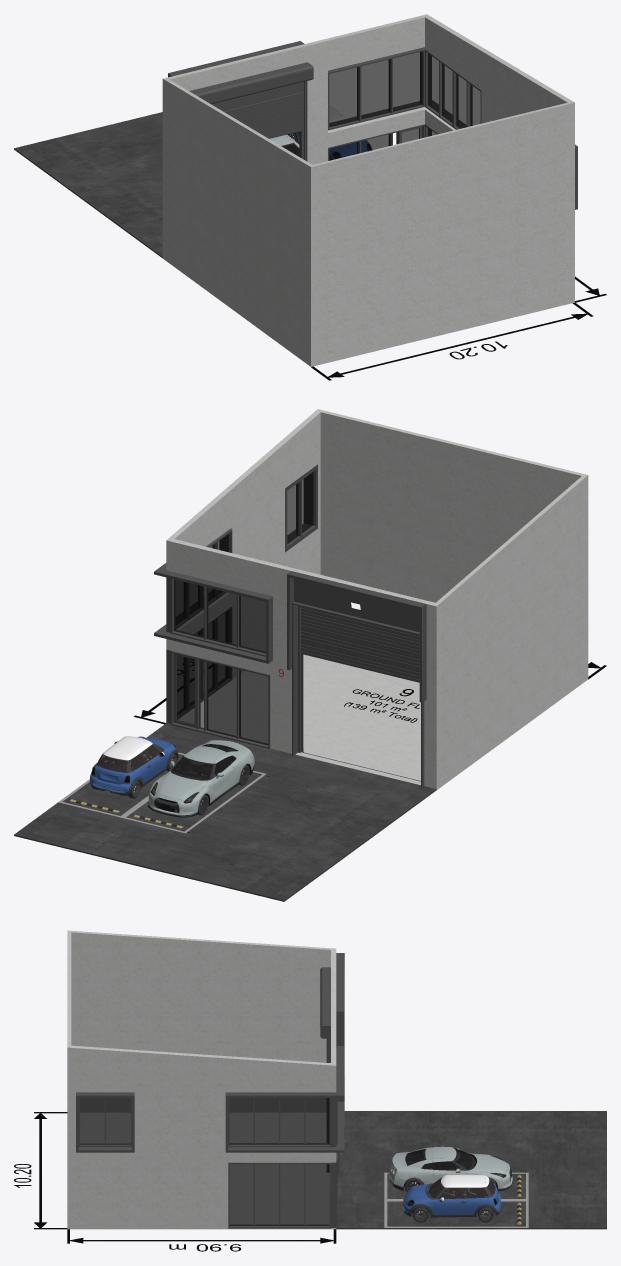
Rendered from Without_Mezzanine.glb.
The picture shows the model from 3 angles, top to bottom: view 1: azimuth 30°, elevation 25°; view 2: azimuth 150°, elevation 25°; view 3: azimuth 270°, elevation 25°; orthographic projection. The views are drawn at different scales.
Parts seen in each view (by area): view 1: Object1746169897.002, Object1746169898.001, Shape217.001, Box2131647078.002, Box2131646516.001, Segment 005.001, Object1746169889.002, Rectangle2133403703.001, Rectangle2133403702.001, DIM_Line_005.003, AM132_041_25.002, Component#121 [25528]107.001; view 2: Box2131647078.002, Object1746169897.002, Object1746169898.001, Shape217.001, Box2131646516.001, Shape218.001, Segment 005.001, AM132_033_39.002, AM132_041_25.002, Component#120 [25525]107.001, Component#121 [25528]107.001, Rectangle2133403701.001 (+3 smaller); view 3: Object1746169898.001, Shape217.001, Box2131647078.002, Box2131646516.001, Shape218.001, AM132_041_25.002, AM132_033_39.002, Rectangle2133403701.001, Rectangle2133403703.001, Rectangle2133403702.001, Component#121 [25528]107.001, Object1746169889.002 (+4 smaller).
Part boxes in pixels (x1,y1,x2,y2): Object1746169897.002: (308,102,569,366); Object1746169898.001: (165,79,311,364); Shape217.001: (162,14,574,303); Box2131647078.002: (14,112,293,257); Box2131646516.001: (328,47,481,160); Segment 005.001: (211,82,301,138); Object1746169889.002: (189,62,313,104); Rectangle2133403703.001: (328,107,455,147); Rectangle2133403702.001: (328,37,481,87); DIM_Line_005.003: (311,302,593,380); AM132_041_25.002: (289,105,372,160); Component#121 [25528]107.001: (168,41,304,135); Box2131647078.002: (14,723,436,901); Object1746169897.002: (320,410,588,680); Object1746169898.001: (436,476,585,787); Shape217.001: (166,409,439,789); Box2131646516.001: (154,529,272,748); Shape218.001: (178,654,420,785); Segment 005.001: (301,606,419,682); AM132_033_39.002: (147,740,254,817); AM132_041_25.002: (90,736,178,798); Component#120 [25525]107.001: (294,578,419,632); Component#121 [25528]107.001: (287,571,426,702); Rectangle2133403701.001: (285,464,317,552); Object1746169898.001: (71,930,330,1112); Shape217.001: (67,948,336,1229); Box2131647078.002: (336,1111,606,1229); Box2131646516.001: (225,1046,344,1228); Shape218.001: (80,1113,336,1229); AM132_041_25.002: (403,1174,501,1222); AM132_033_39.002: (388,1146,512,1191); Rectangle2133403701.001: (76,1092,134,1152); Rectangle2133403703.001: (228,1152,336,1162); Rectangle2133403702.001: (228,1084,336,1092); Component#121 [25528]107.001: (336,953,344,1049); Object1746169889.002: (320,967,330,1038).
Bounding box in the file's own units: 12.33 × 7.52 × 22.19.
56 materials, 7 textured.
